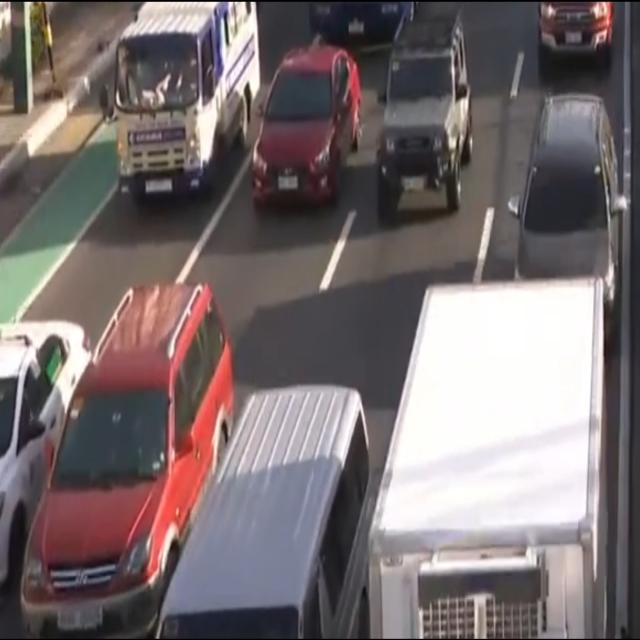SUV: (14, 264, 239, 640), (504, 83, 630, 344), (370, 15, 476, 243), (535, 0, 613, 74)
Sedan: (0, 300, 96, 606), (250, 41, 366, 219)
Truck: (367, 276, 630, 640), (97, 0, 266, 217)
Van: (153, 381, 378, 640)
